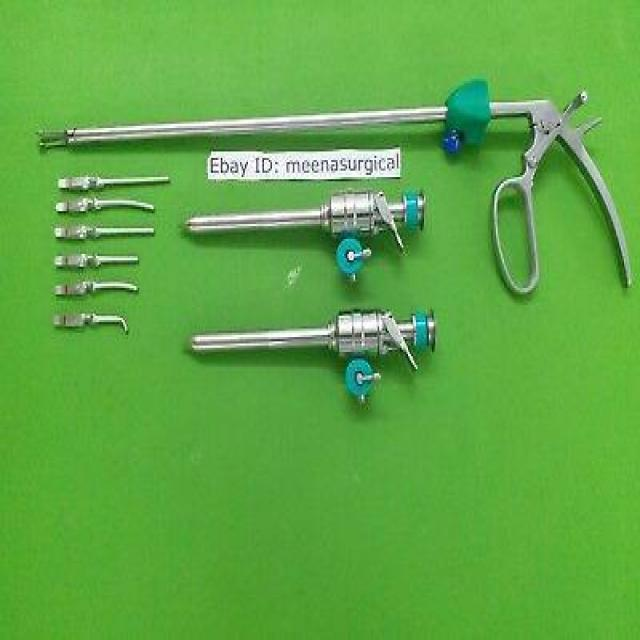Bulldog: (51, 307, 130, 337), (53, 222, 157, 244), (56, 173, 171, 192), (52, 277, 140, 301), (53, 197, 157, 216), (53, 250, 141, 272)
